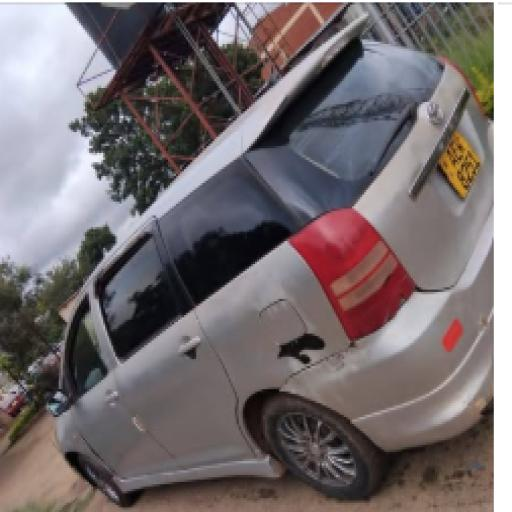number-plates: (446, 135, 484, 193)
